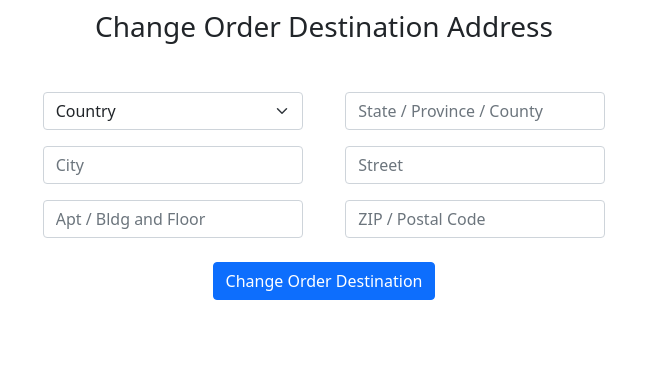
Testing EditOrderDestination component › Testing the component when the server reject the changes
Note: entering state / province / county
Type "London" into the field with placeholder "State / Province / County".
click(475, 111); type("London")  # box [345,92,605,130]
Note: entering city
Type "London" into the field with placeholder "City".
click(173, 165); type("London")  # box [43,146,303,184]
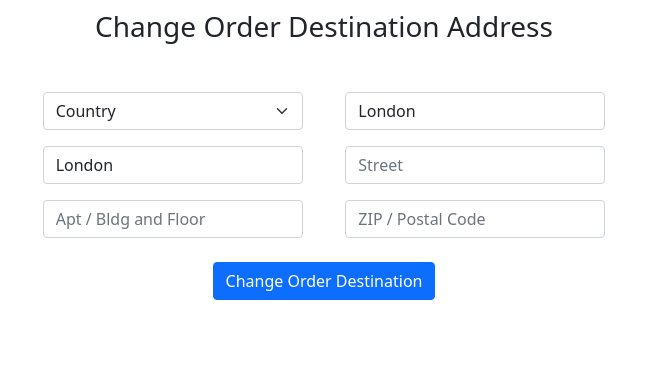
Note: entering street
Type "First Street" into the field with placeholder "Street".
click(475, 165); type("First Street")  # box [345,146,605,184]
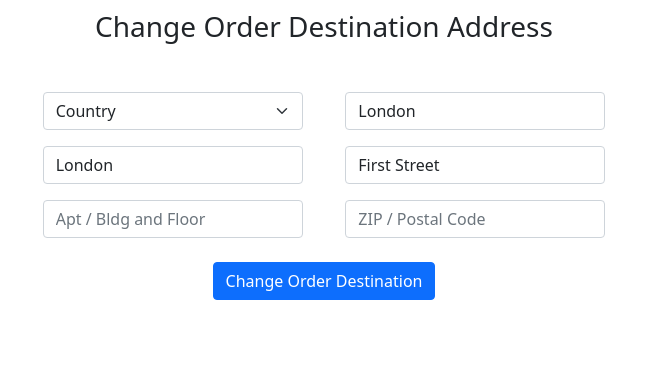
Note: entering apt / bldg and floor
Type "First bldg" into the field with placeholder "Apt / Bldg and Floor".
click(173, 219); type("First bldg")  # box [43,200,303,238]
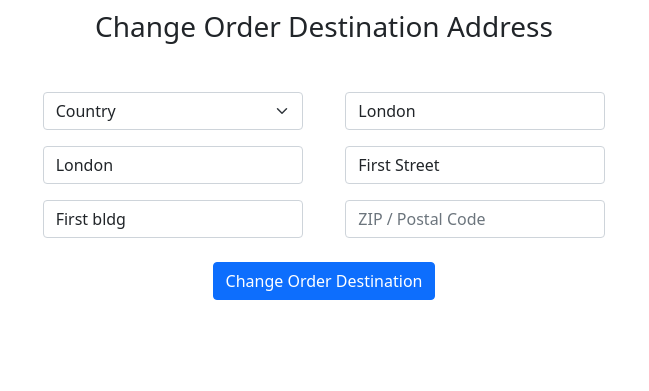
Note: entering ZIP / Postal code
Type "1234" into the number field with placeholder "ZIP / Postal Code".
click(475, 219); type("1234")  # box [345,200,605,238]
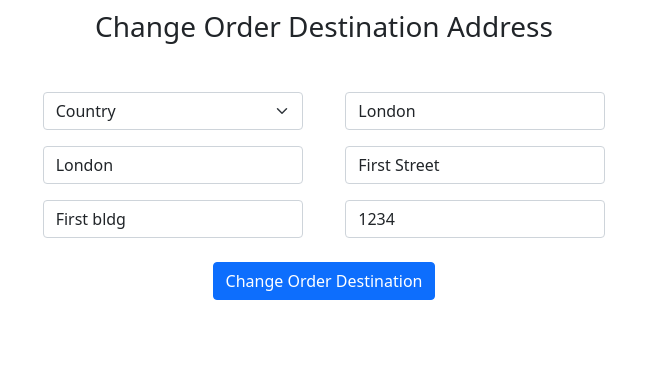
Note: selecting country
Select "United Kingdom" in the dropdown with test id "country" at (173, 111), box [43,92,303,130]
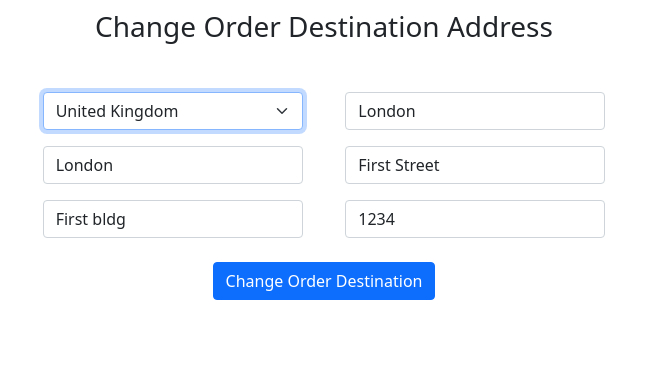
Note: clicking 'Change order destination' button
Click the button "Change Order Destination".
click(324, 281)  # box [212,262,435,300]
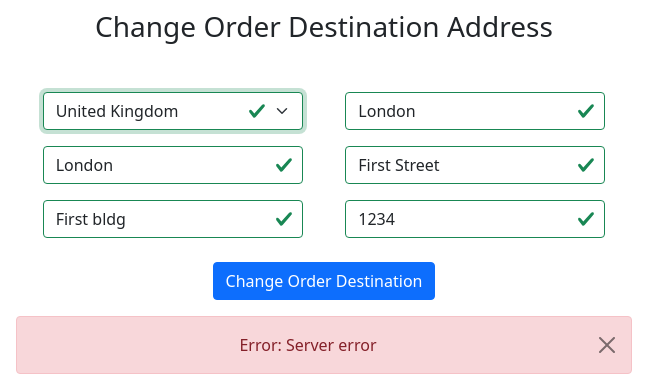
Result: the text "Error: Server error" is shown at [240,334,377,356]
